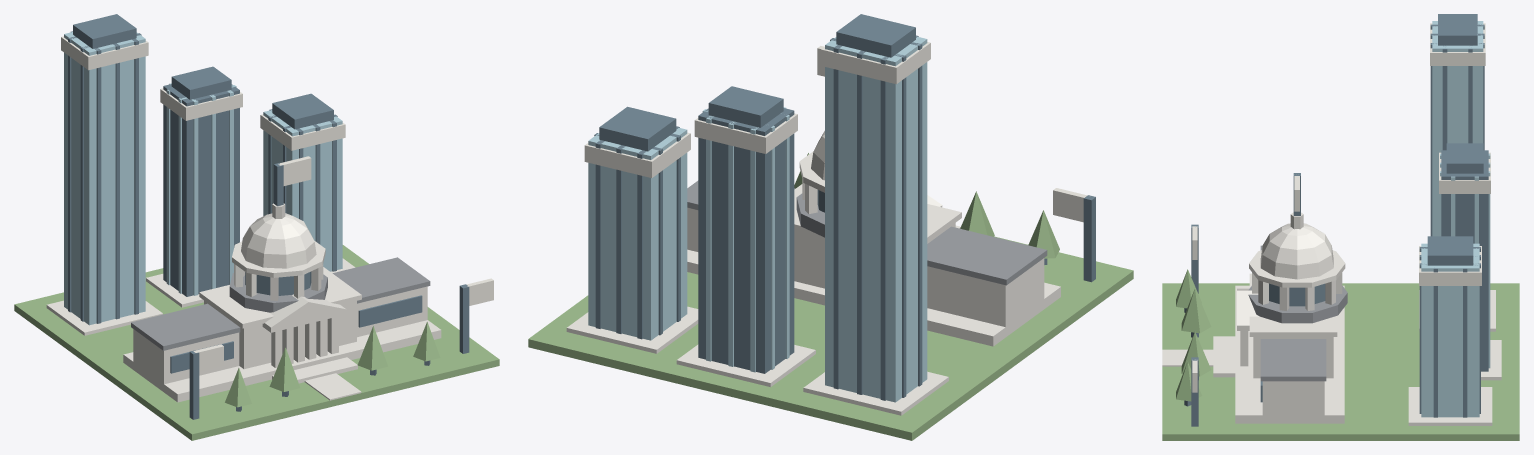
The model's file is capital.glb.
3 views of the same model, side by side, from view 1: azimuth 30°, elevation 25°; view 2: azimuth 150°, elevation 25°; view 3: azimuth 270°, elevation 25° (orthographic). The views are drawn at different scales.
Visible parts, largest first — view 1: western_modern_capital; view 2: western_modern_capital; view 3: western_modern_capital.
Part boxes in pixels (<box>): western_modern_capital: <box>14,14,499,440</box>; western_modern_capital: <box>528,14,1133,440</box>; western_modern_capital: <box>1162,14,1519,440</box>.
Bounding box in the file's own units: 1 × 0.8812 × 0.9703.
